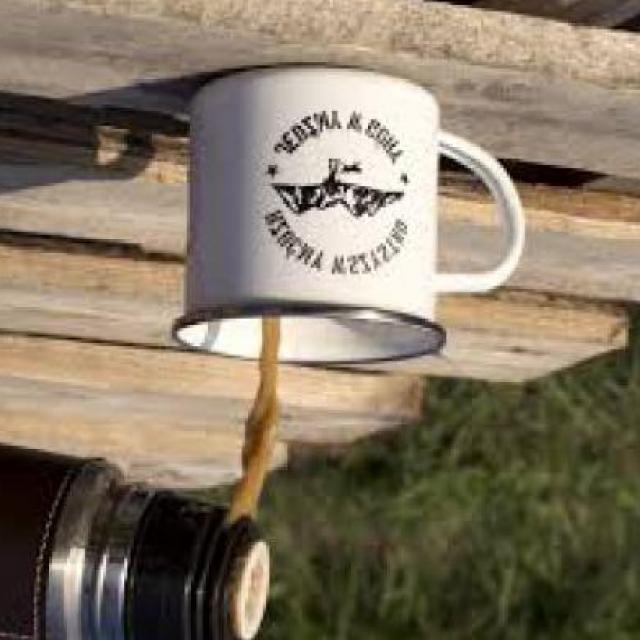cup: (167, 63, 530, 370)
